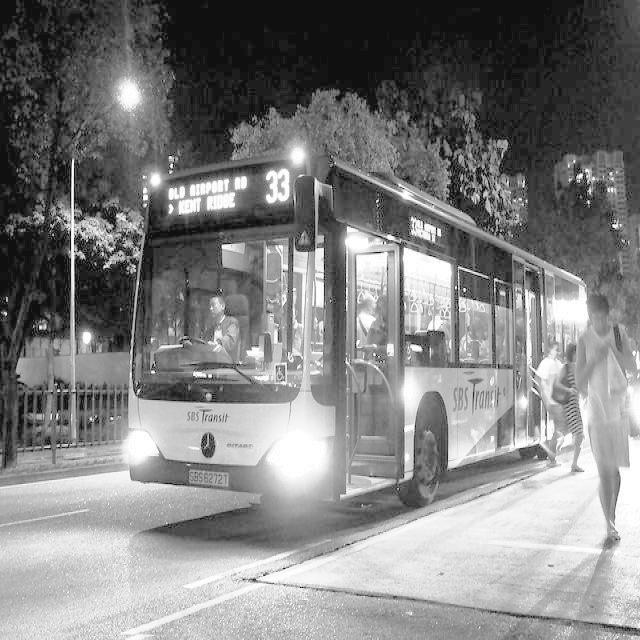Bus: (86, 126, 621, 529)
